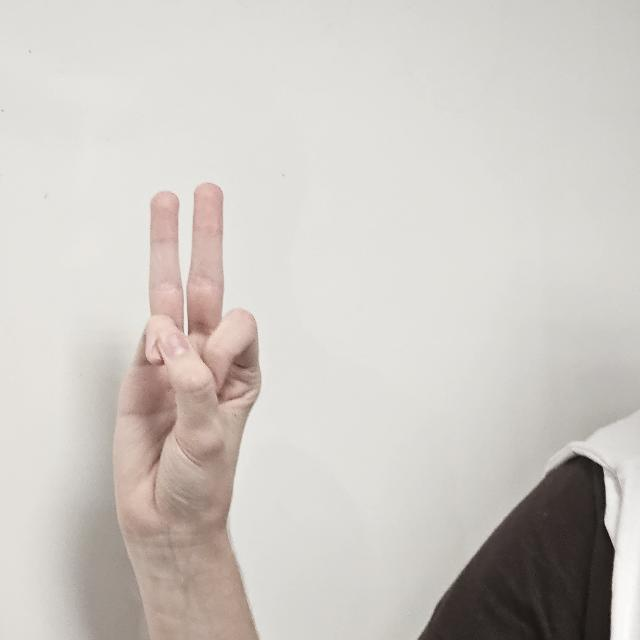R: (114, 179, 262, 565)
